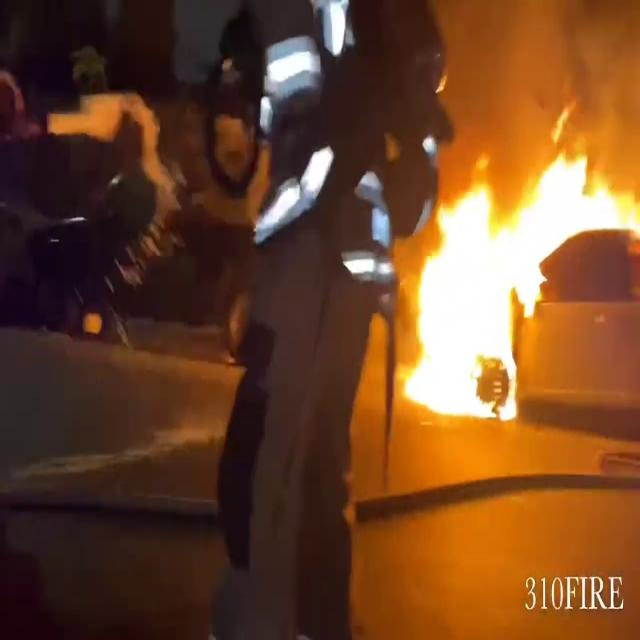Fire: (399, 138, 640, 428)
